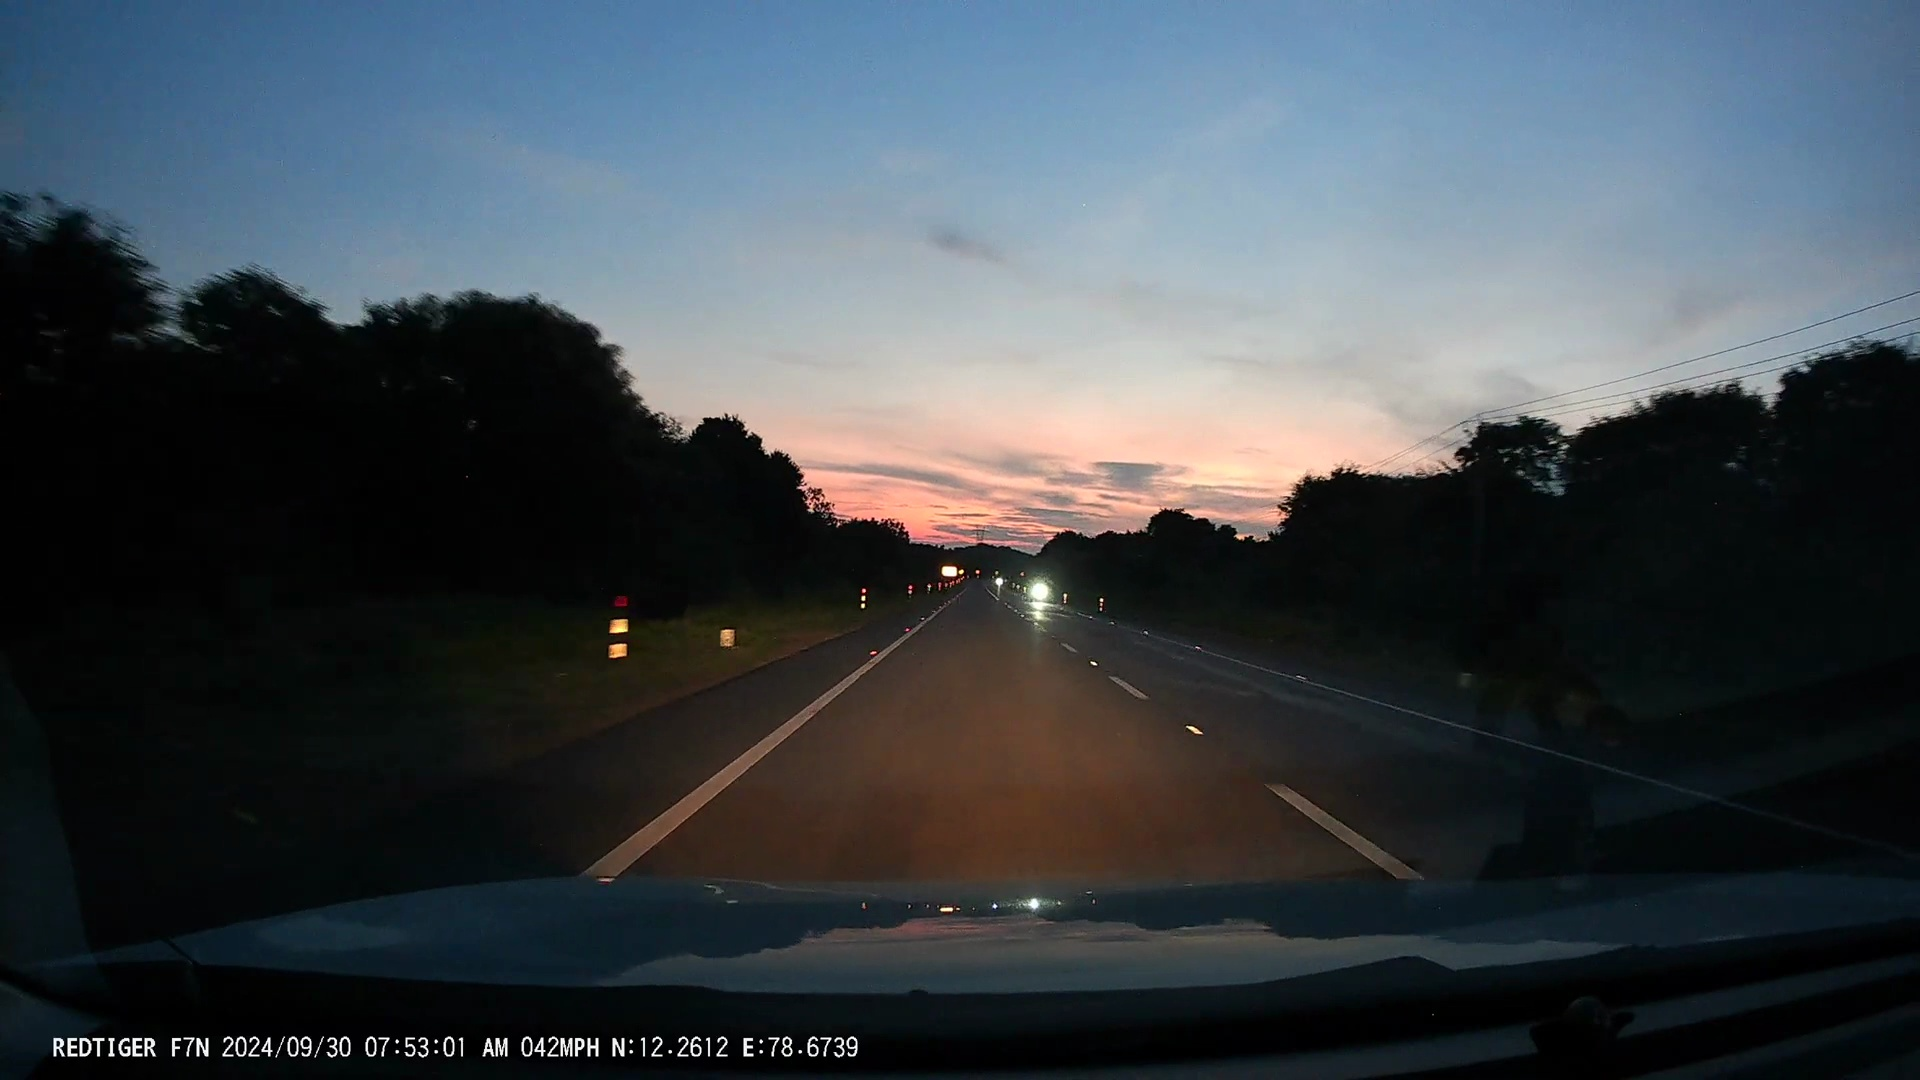headlight: (1030, 583, 1051, 608), (994, 578, 1005, 587)
two wheeler: (1033, 574, 1048, 615), (992, 574, 1004, 597)
